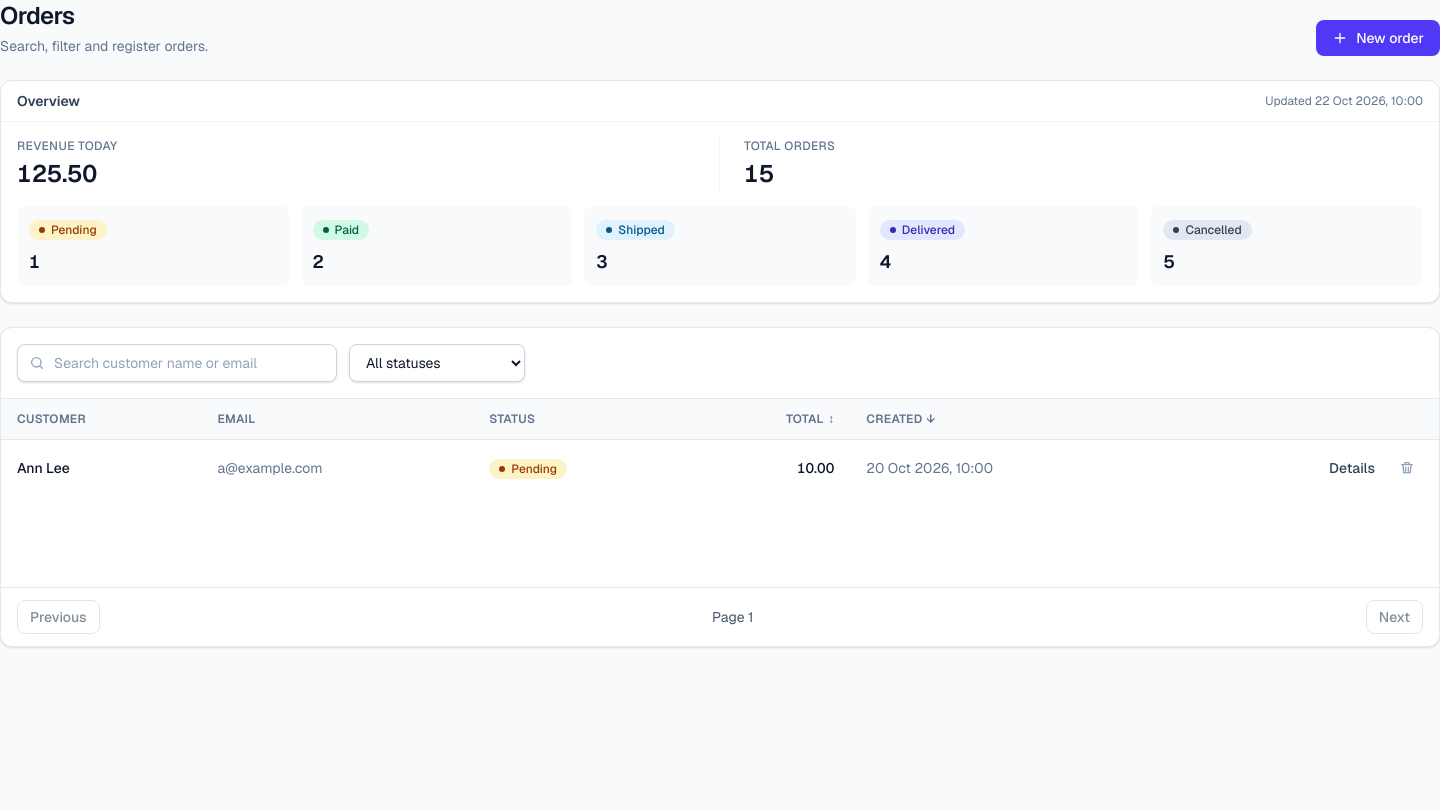
it: OrdersView › delete order (admin only) › does not show an old error when the dialog is opened again
Expected: the text "ann lee" is shown, [17,459,70,477]
Click the button named "Delete order for": coordinates (1407, 468) [1391,452,1423,484]
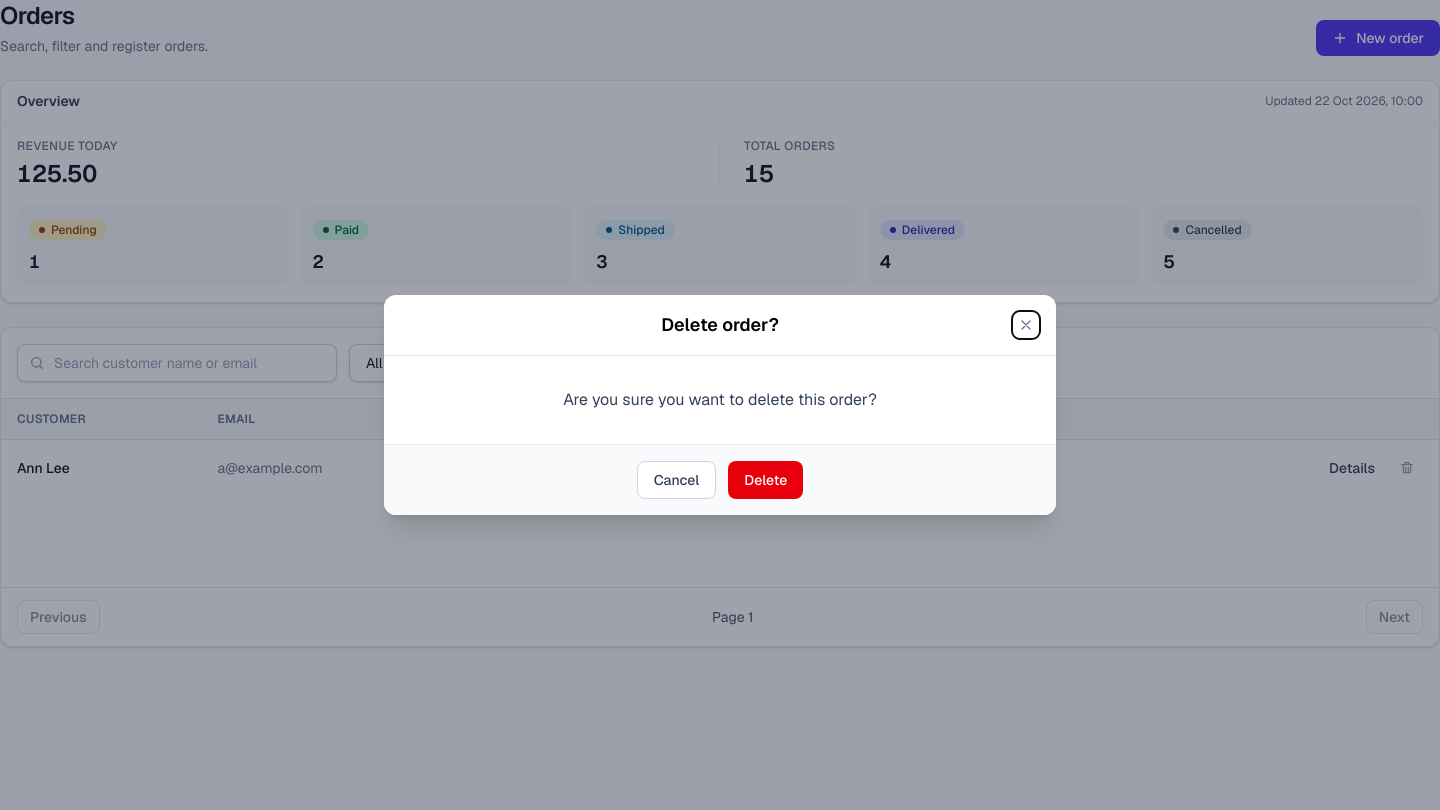
Click the button "Delete": coordinates (766, 480) [728,461,803,499]
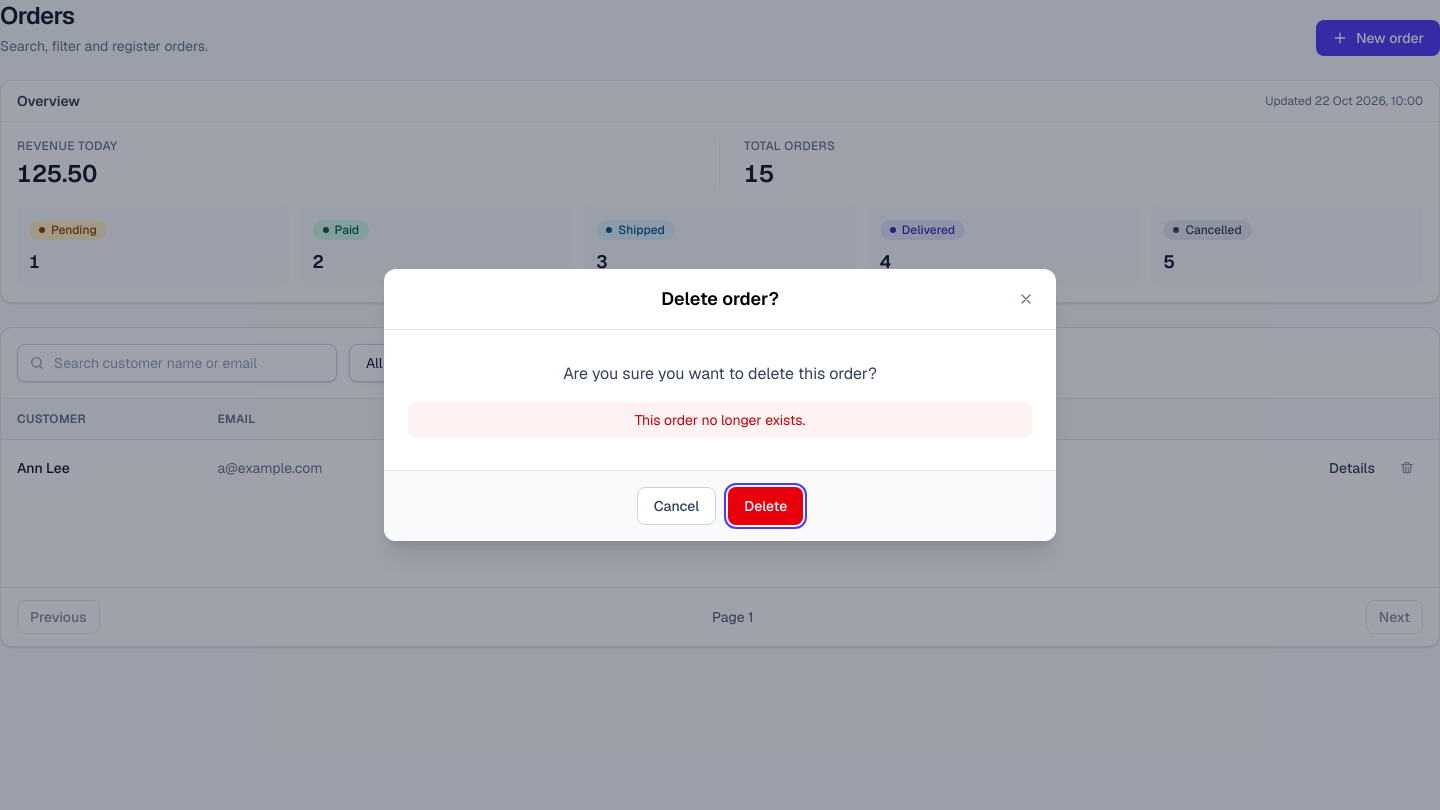
Expected: the text "This order no longer exists." is shown, [408,402,1032,438]
Click the button "Cancel": coordinates (676, 506) [637,487,716,525]
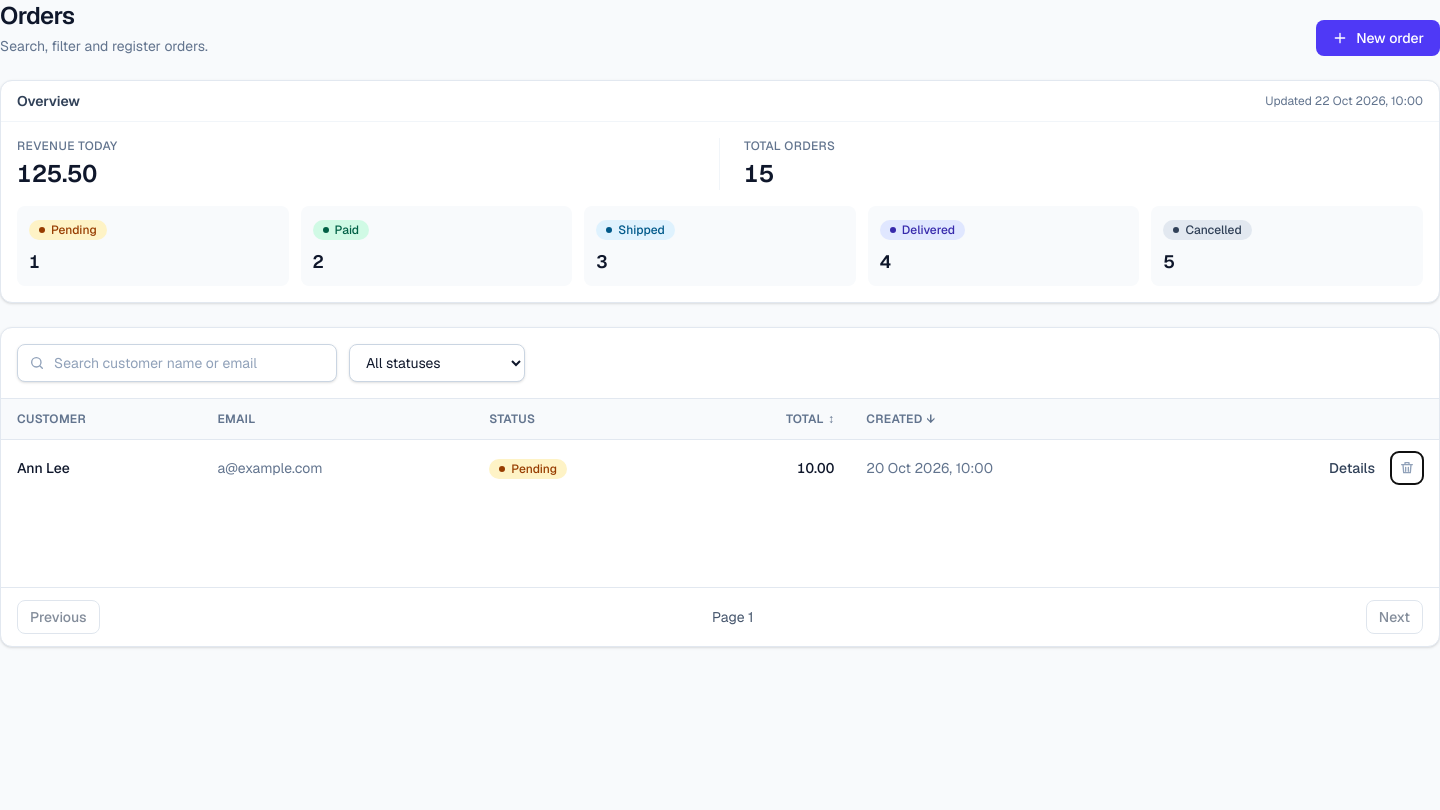
Expected: the dialog is gone
Click the button named "Delete order for": coordinates (1407, 468) [1391,452,1423,484]
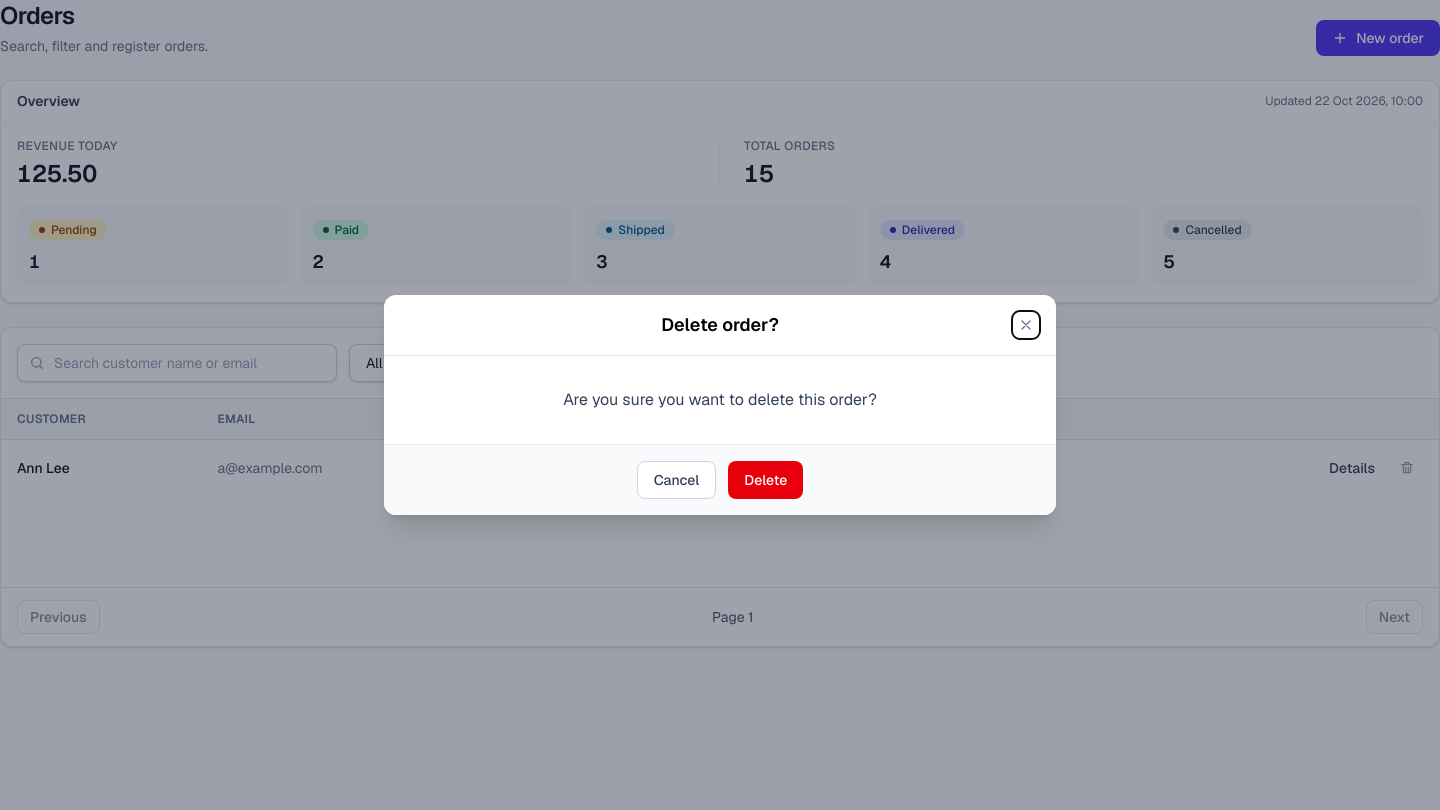
Expected: the text "This order no longer exists." is not shown
Expected: the dialog "Delete order?" is shown, [384,295,1056,515]
